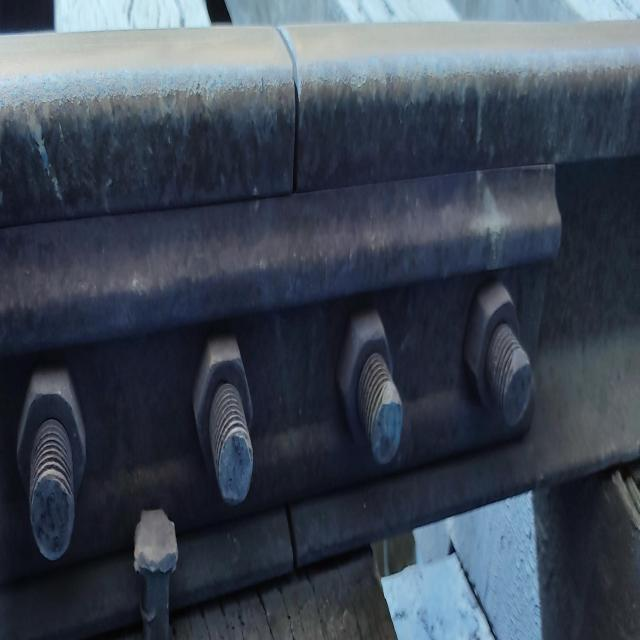Good Joint: (0, 172, 562, 601)
